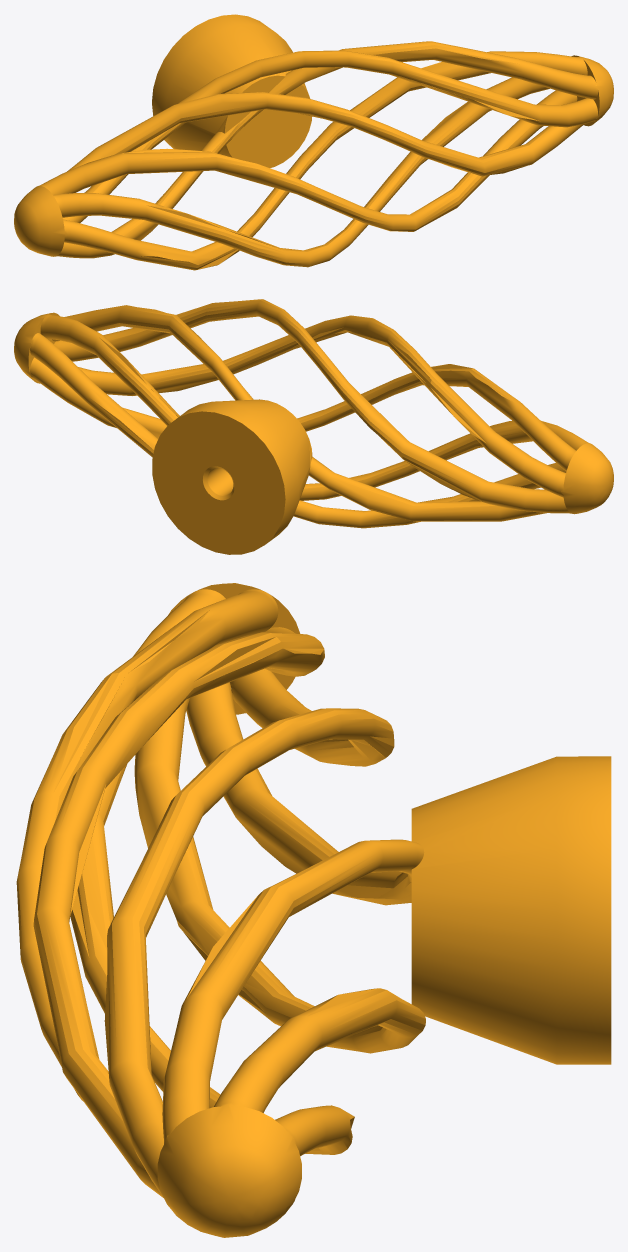
File: furniture_handle_4.glb
The picture shows the model from 3 angles, top to bottom: view 1: azimuth 30°, elevation 25°; view 2: azimuth 150°, elevation 25°; view 3: azimuth 270°, elevation 25°; orthographic projection. The views are drawn at different scales.
Parts seen in each view (by area): view 1: Tulip_Virella_M; view 2: Tulip_Virella_M; view 3: Tulip_Virella_M.
Boxes of the visible parts, bbox=[...] form: Tulip_Virella_M: bbox=[14, 14, 613, 270]; Tulip_Virella_M: bbox=[14, 299, 613, 554]; Tulip_Virella_M: bbox=[16, 583, 611, 1237].
Size of the model in its own units: 0.1034 by 0.0324 by 0.0451.
